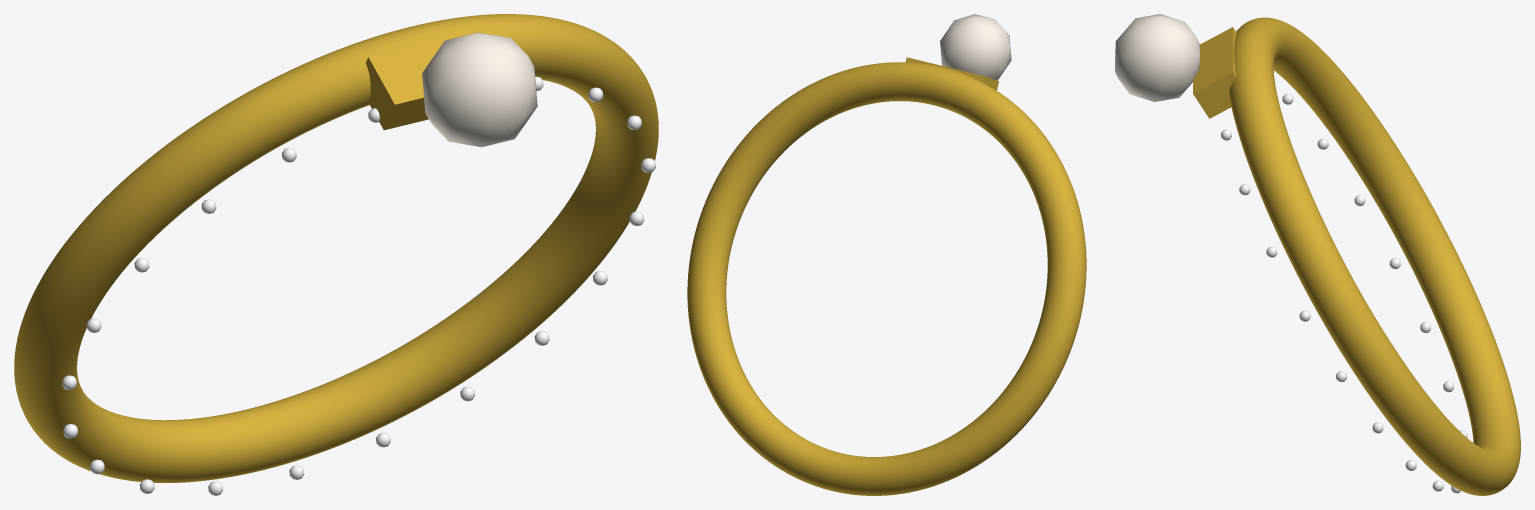
The model's file is aster-pearl-hoops.glb.
3 renders of one model, left to right at view 1: azimuth 30°, elevation 25°; view 2: azimuth 150°, elevation 25°; view 3: azimuth 270°, elevation 25°, orthographic. The views are drawn at different scales.
Parts seen in each view (by area): view 1: gold_band, hero_gemstone, gold_setting; view 2: gold_band, hero_gemstone; view 3: gold_band, hero_gemstone, gold_setting.
Part boxes in pixels (<box>): gold_band: <box>14,14,658,482</box>; hero_gemstone: <box>422,32,537,147</box>; gold_setting: <box>366,27,495,130</box>; gold_band: <box>687,62,1086,495</box>; hero_gemstone: <box>940,14,1011,80</box>; gold_band: <box>1229,17,1520,495</box>; hero_gemstone: <box>1115,14,1199,101</box>; gold_setting: <box>1193,27,1236,118</box>.
Size of the model in its own units: 2.29 by 2.14 by 1.74.
